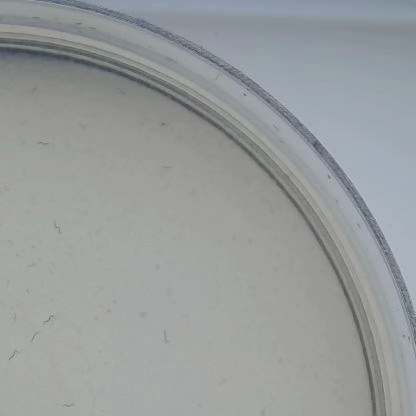worm: (36, 304, 68, 332), (56, 391, 90, 412), (154, 328, 178, 351), (44, 216, 70, 236), (1, 342, 26, 362), (18, 256, 40, 277), (23, 327, 43, 347), (29, 135, 54, 151)
